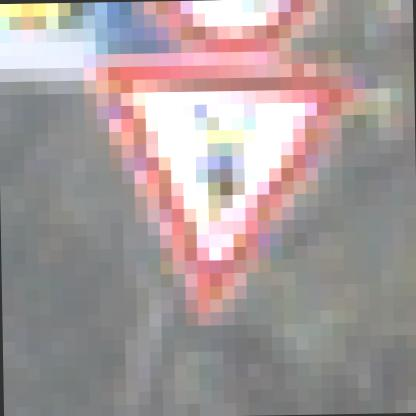crosswalk: (79, 34, 366, 334)
